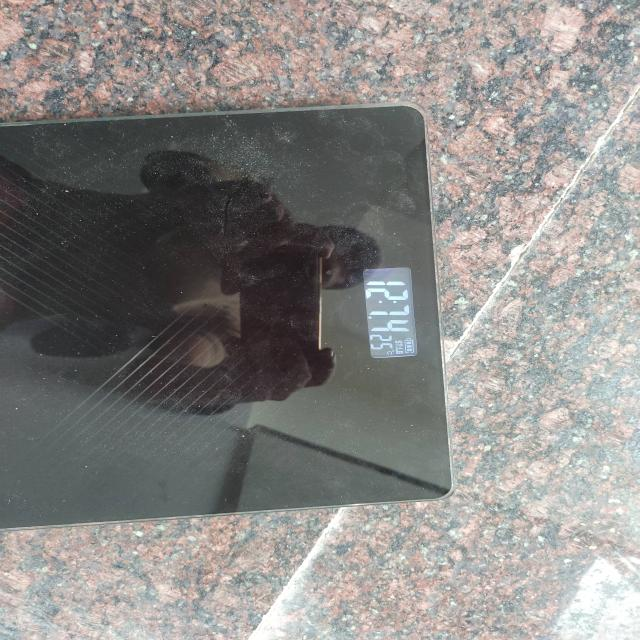ws: (0, 104, 453, 532)
